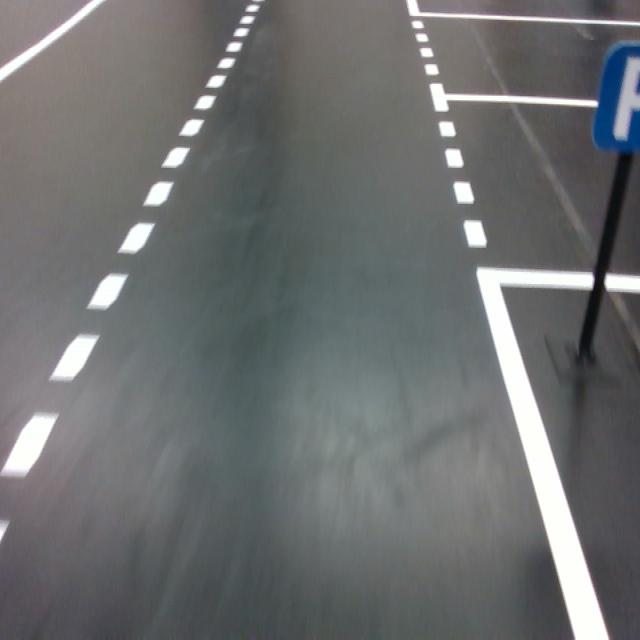parking-sign: (592, 43, 640, 151)
